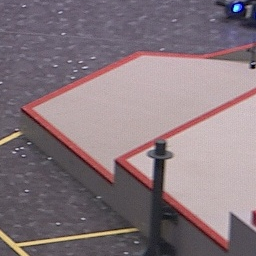Blue: (230, 1, 256, 18)
